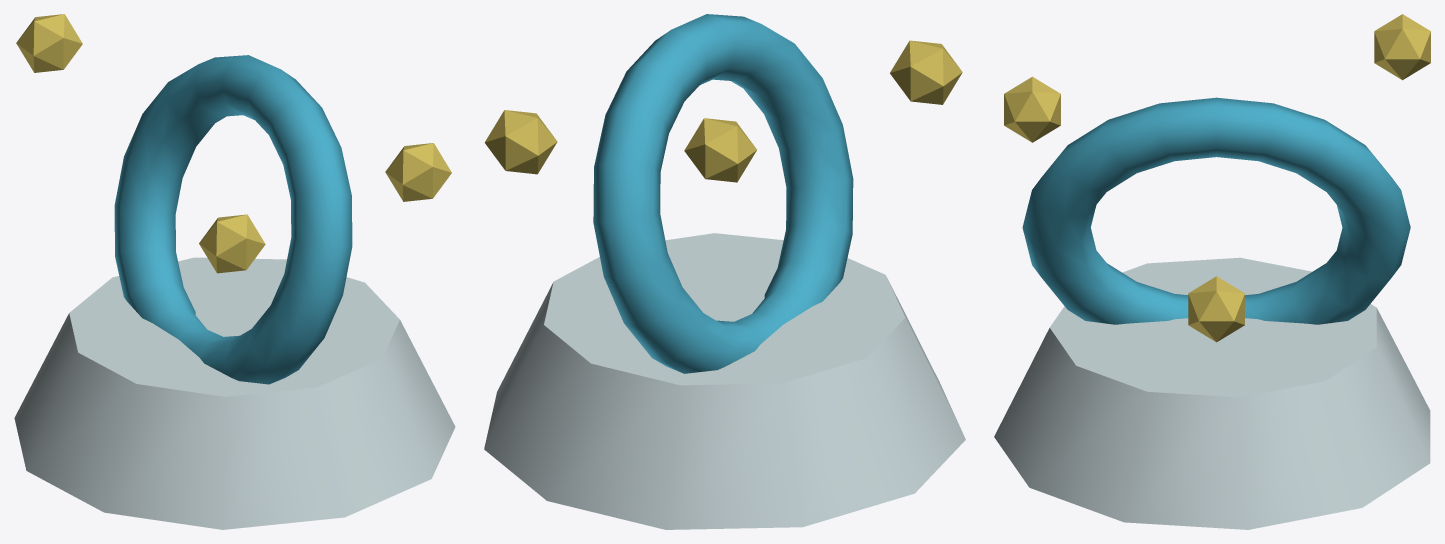
Rendered from child_01_memory.glb.
3 renders of one model, left to right at view 1: azimuth 30°, elevation 25°; view 2: azimuth 150°, elevation 25°; view 3: azimuth 270°, elevation 25°, orthographic. The views are drawn at different scales.
Parts seen in each view (by area): view 1: memory_pedestal, memory_symbol_child_01, memory_star_1, memory_star_0, memory_star_2; view 2: memory_pedestal, memory_symbol_child_01, memory_star_1, memory_star_0, memory_star_2; view 3: memory_pedestal, memory_symbol_child_01, memory_star_0, memory_star_1, memory_star_2.
Boxes of the visible parts, <box> form: memory_pedestal: <box>14,257,455,529</box>; memory_symbol_child_01: <box>114,55,352,384</box>; memory_star_1: <box>199,214,265,273</box>; memory_star_0: <box>385,143,451,201</box>; memory_star_2: <box>16,14,82,72</box>; memory_pedestal: <box>484,233,965,529</box>; memory_symbol_child_01: <box>593,14,853,373</box>; memory_star_1: <box>890,40,962,104</box>; memory_star_0: <box>484,110,557,174</box>; memory_star_2: <box>684,118,756,182</box>; memory_pedestal: <box>994,257,1430,529</box>; memory_symbol_child_01: <box>1022,97,1410,324</box>; memory_star_0: <box>1188,276,1244,342</box>; memory_star_1: <box>1004,76,1060,142</box>; memory_star_2: <box>1374,14,1430,80</box>.
Size of what is drawn, in the model's own units: 2.49 by 2.21 by 2.36.
